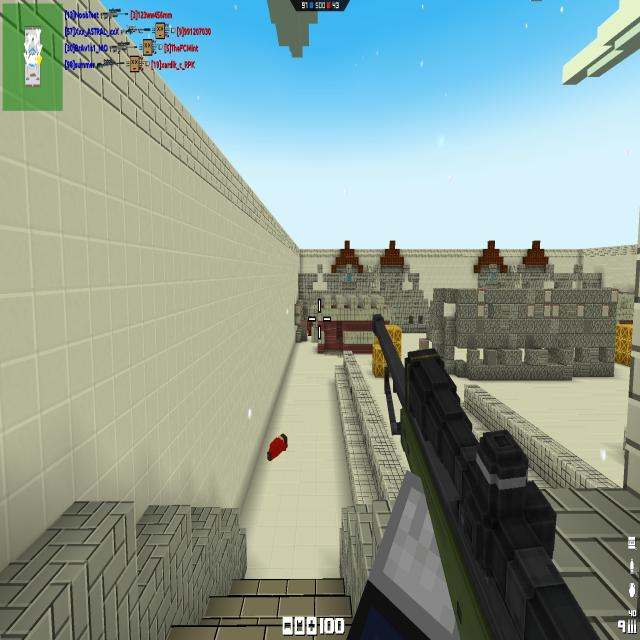player: (266, 432, 289, 461), (307, 320, 312, 336)
